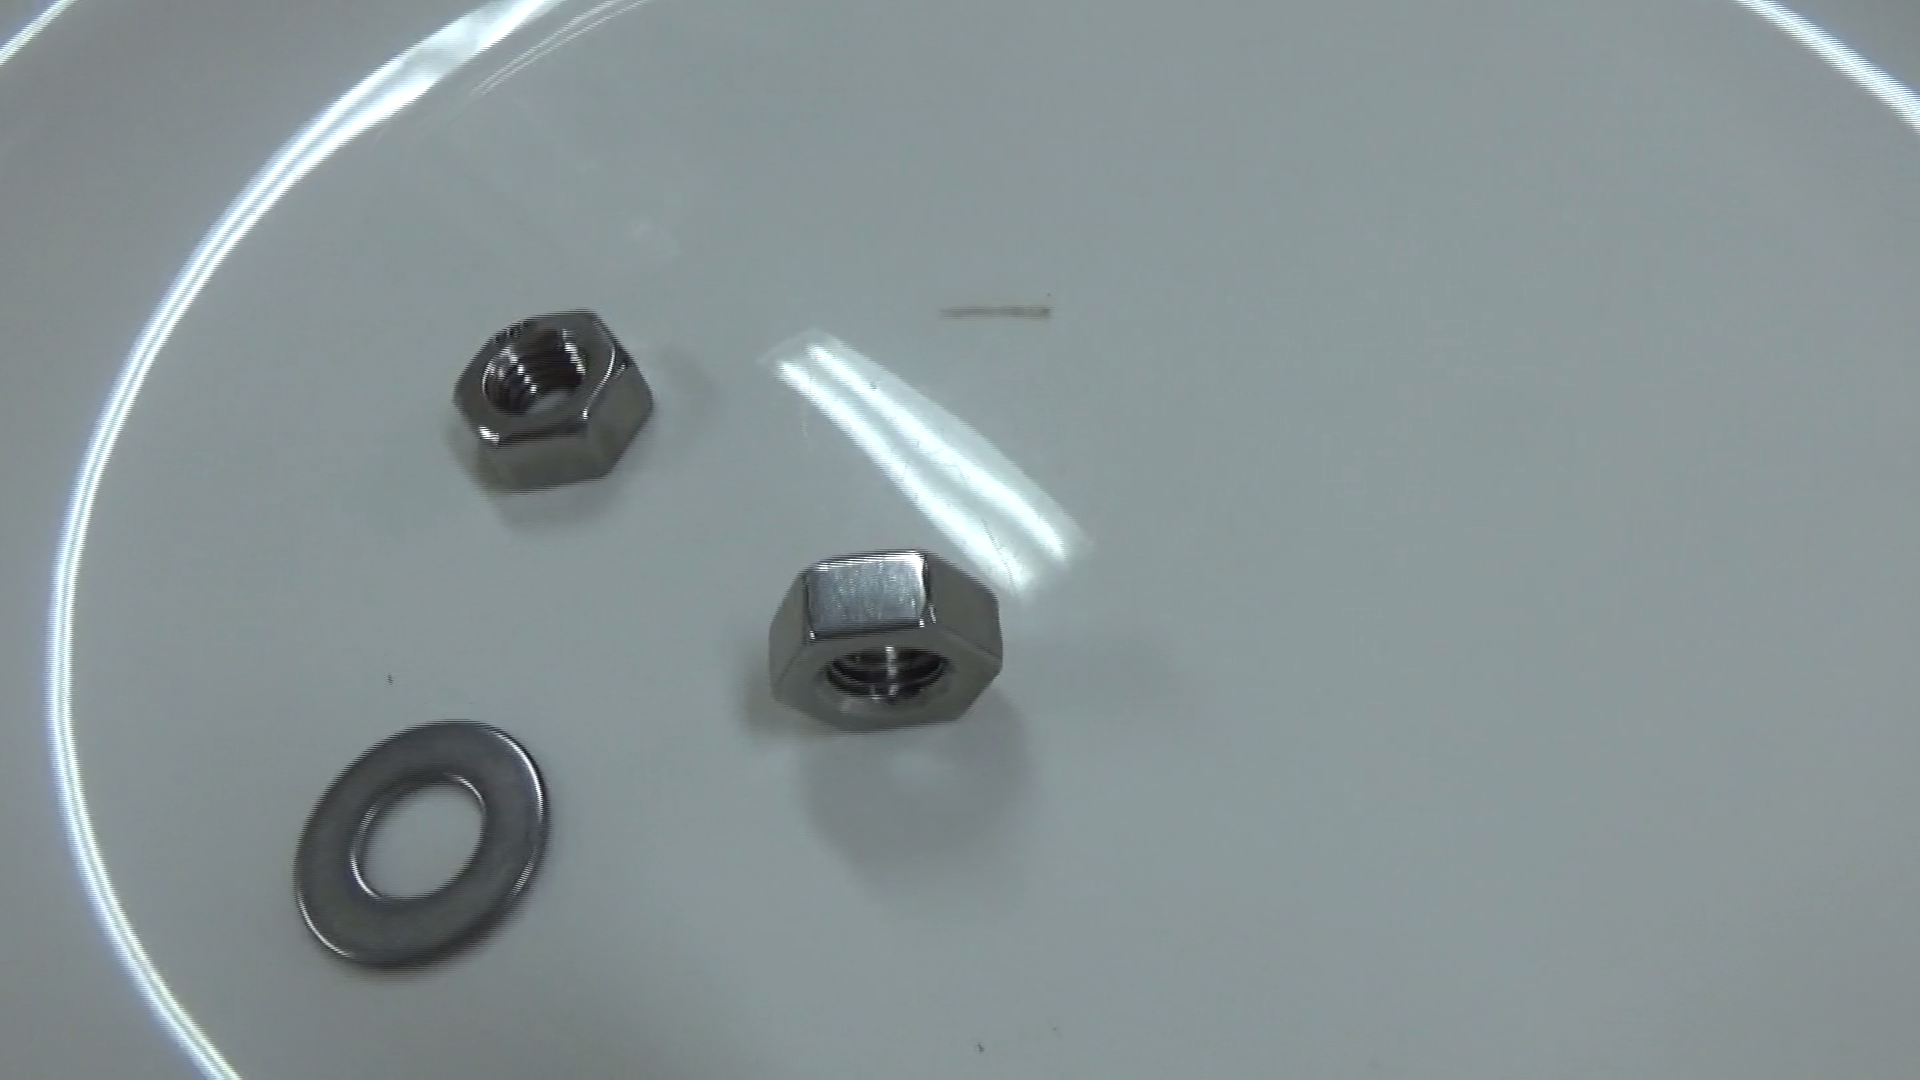nut: (744, 541, 1021, 742), (436, 302, 659, 504)
washer: (273, 702, 563, 982)
